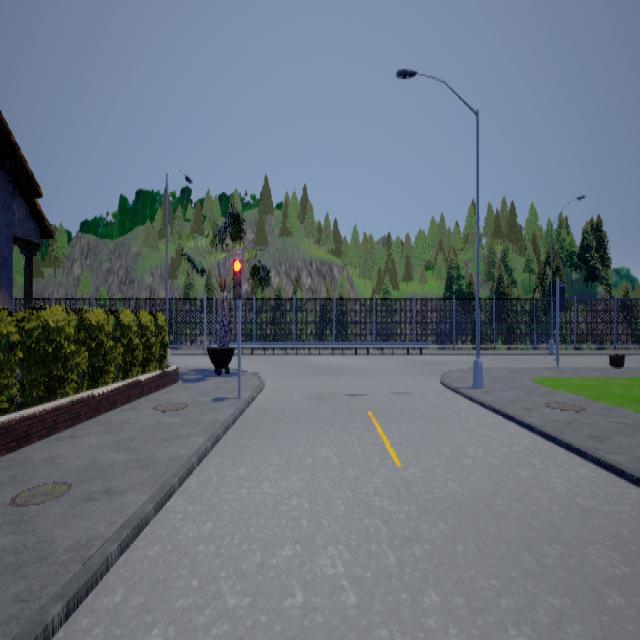red_light: (234, 249, 244, 307)
